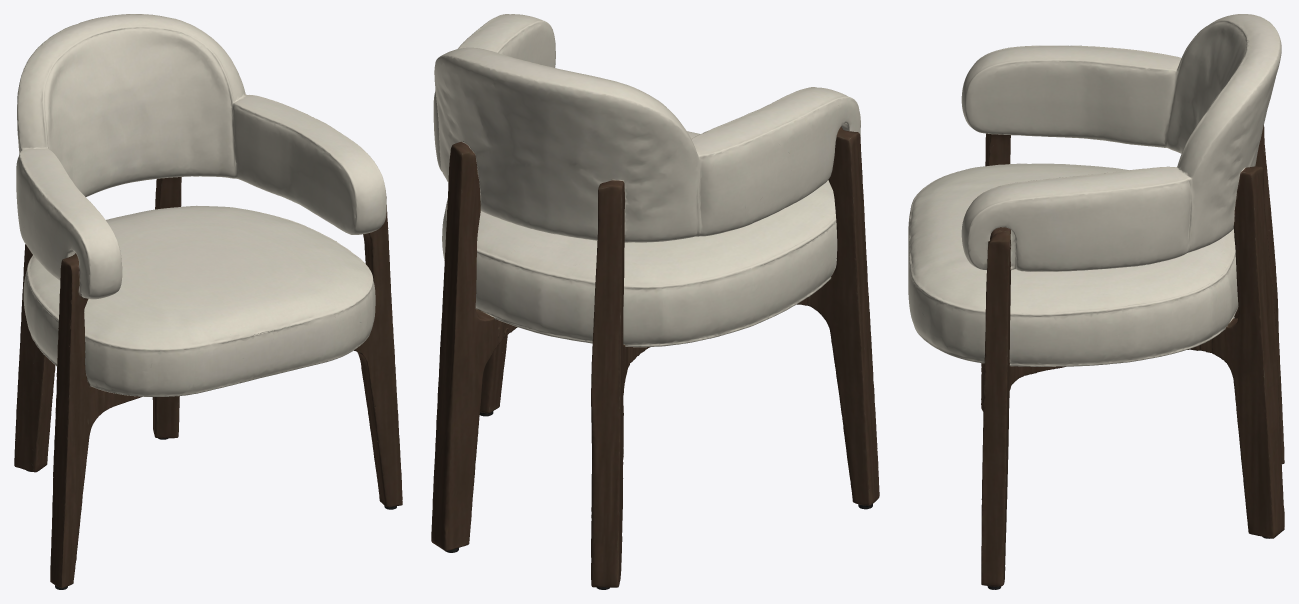
The model's file is chair.glb.
The picture shows the model from 3 angles, left to right: view 1: azimuth 30°, elevation 25°; view 2: azimuth 150°, elevation 25°; view 3: azimuth 270°, elevation 25°; orthographic projection. The views are drawn at different scales.
Visible parts, largest first — view 1: world; view 2: world; view 3: world.
Boxes of the visible parts, box(x1,y1,x2,y2) form: world: box(14, 14, 402, 589); world: box(431, 14, 879, 589); world: box(908, 14, 1284, 589).
Bounding box in the file's own units: 0.8343 × 0.9999 × 0.7387.
1 material, 1 textured.
